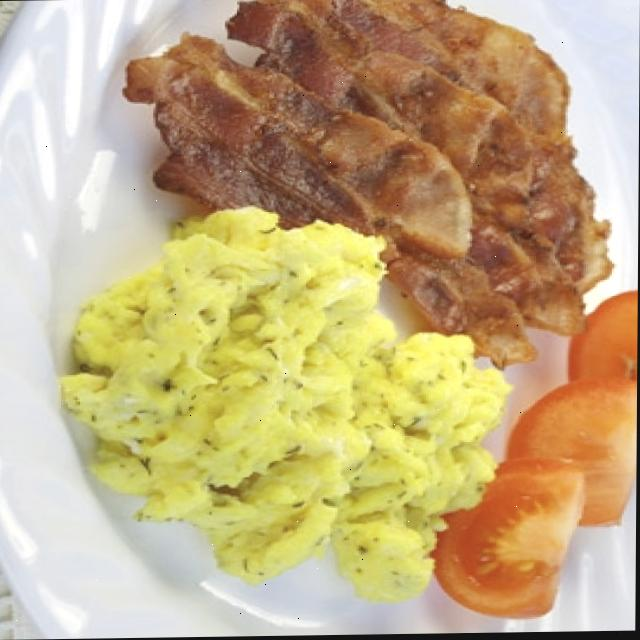鸡蛋料理: (41, 0, 640, 609)
